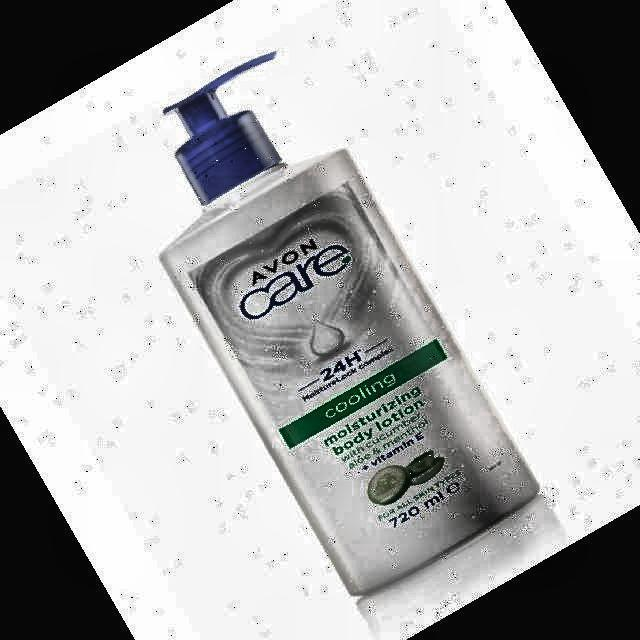plastic: (162, 52, 538, 593)
